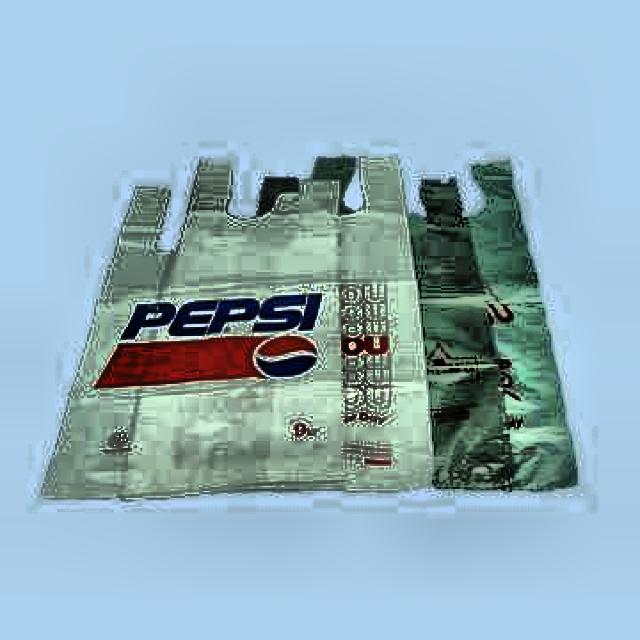Plastic: (301, 103, 633, 519), (84, 135, 351, 507)
